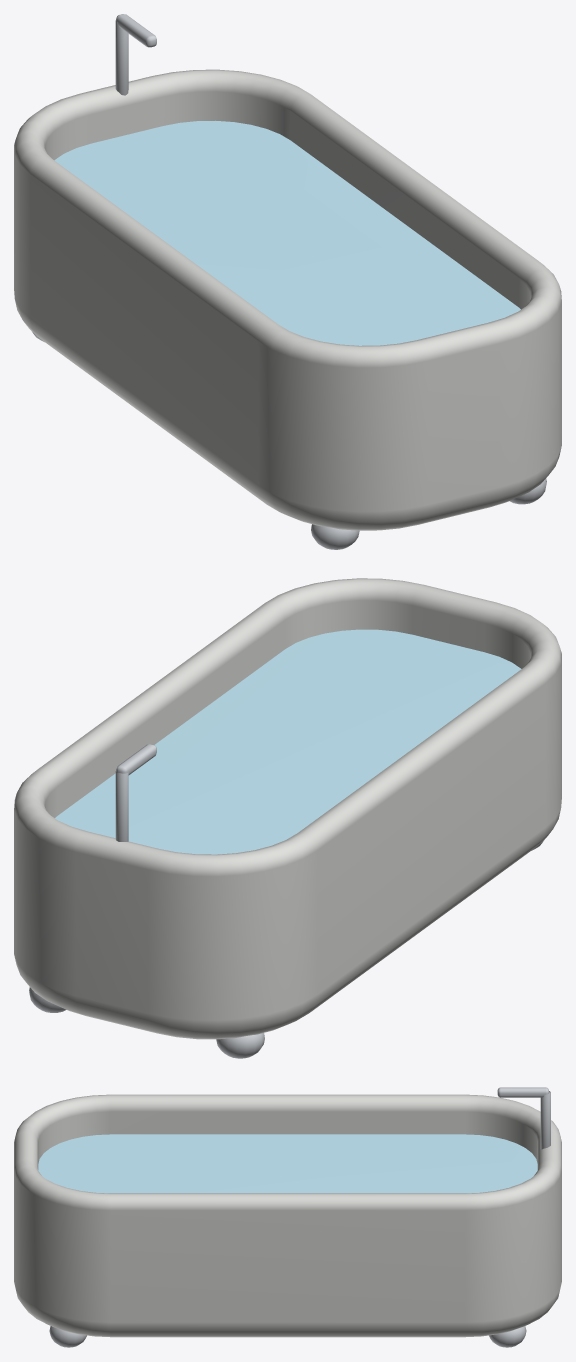
Rendered from prop_bathtub.glb.
3 views of the same model, one above another, from view 1: azimuth 30°, elevation 25°; view 2: azimuth 150°, elevation 25°; view 3: azimuth 270°, elevation 25° (orthographic). The views are drawn at different scales.
Visible parts, largest first — view 1: prop_bathtub; view 2: prop_bathtub; view 3: prop_bathtub.
Boxes of the visible parts, x1,y1,x2,y2 form: prop_bathtub: [14, 14, 561, 549]; prop_bathtub: [14, 578, 561, 1058]; prop_bathtub: [14, 1087, 561, 1347].
Size of the model in its own units: 1 by 0.95 by 2.12.
